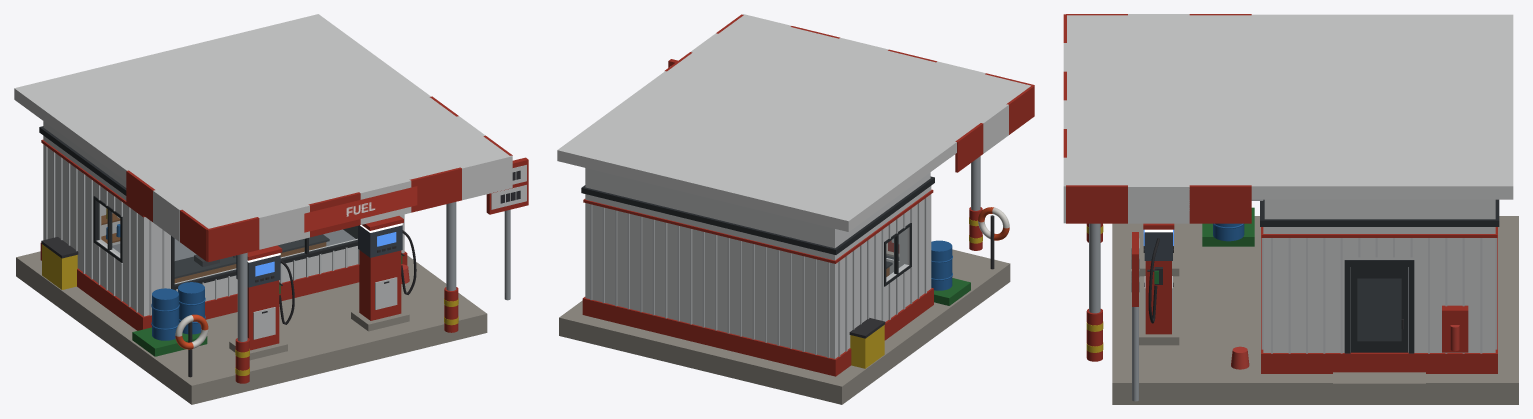
File: fueldock.glb
3 views of the same model, side by side, from view 1: azimuth 30°, elevation 25°; view 2: azimuth 150°, elevation 25°; view 3: azimuth 270°, elevation 25° (orthographic). The views are drawn at different scales.
Visible parts, largest first — view 1: kerb_concrete_m, window_frame_dark_m, sign_fuel_m; view 2: kerb_concrete_m, window_frame_dark_m; view 3: kerb_concrete_m, window_frame_dark_m.
Boxes of the visible parts, x1,y1,x2,y2 form: kerb_concrete_m: (14, 14, 528, 404); window_frame_dark_m: (39, 126, 520, 377); sign_fuel_m: (304, 186, 417, 232); kerb_concrete_m: (557, 14, 1034, 404); window_frame_dark_m: (581, 156, 994, 338); kerb_concrete_m: (1063, 14, 1518, 404); window_frame_dark_m: (1089, 199, 1499, 401).
Bounding box in the file's own units: 8.12 × 4.2 × 7.85.
Materials: 8 (1 with a texture image).
